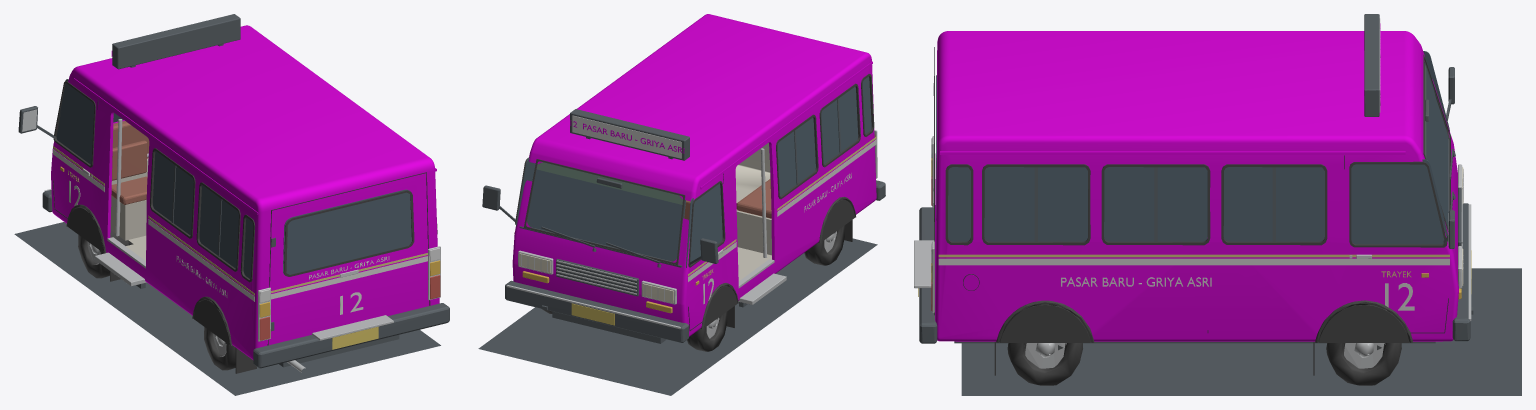
The model's file is angkot_12.glb.
The picture shows the model from 3 angles, left to right: view 1: azimuth 30°, elevation 25°; view 2: azimuth 150°, elevation 25°; view 3: azimuth 270°, elevation 25°; orthographic projection. The views are drawn at different scales.
Visible parts, largest first — view 1: main, rem; view 2: main; view 3: main.
Boxes of the visible parts, box(x1,y1,x2,y2) form: main: box(14, 14, 449, 395); rem: box(259, 275, 440, 340); main: box(478, 14, 885, 395); main: box(914, 14, 1521, 395).
Bounding box in the file's own units: 2.39 × 2.02 × 3.95.
